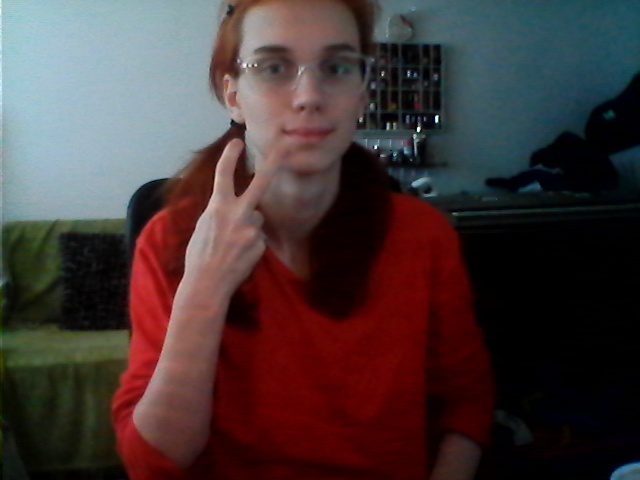usmievat: (174, 124, 363, 249)
